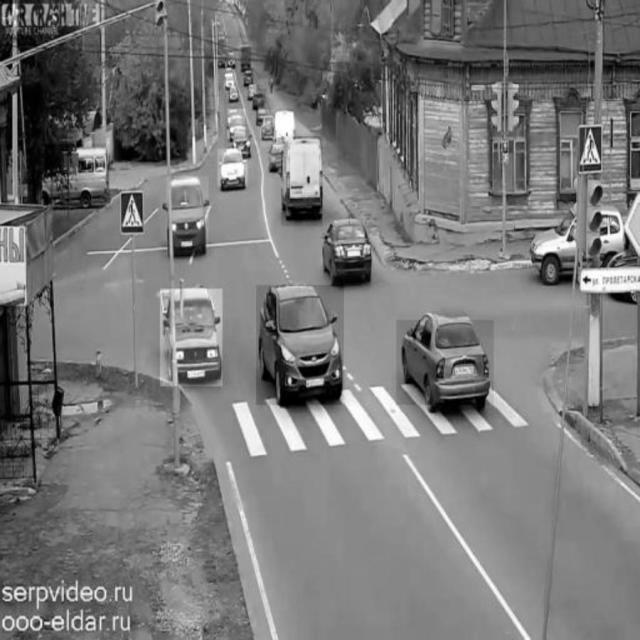vehicle: (257, 285, 345, 405), (397, 320, 495, 406), (533, 204, 627, 281), (160, 289, 224, 387), (45, 144, 109, 205), (282, 137, 323, 227), (167, 177, 209, 255), (218, 150, 248, 187), (260, 110, 278, 146), (228, 109, 245, 139), (239, 41, 256, 71), (253, 89, 267, 109), (224, 74, 236, 92)
